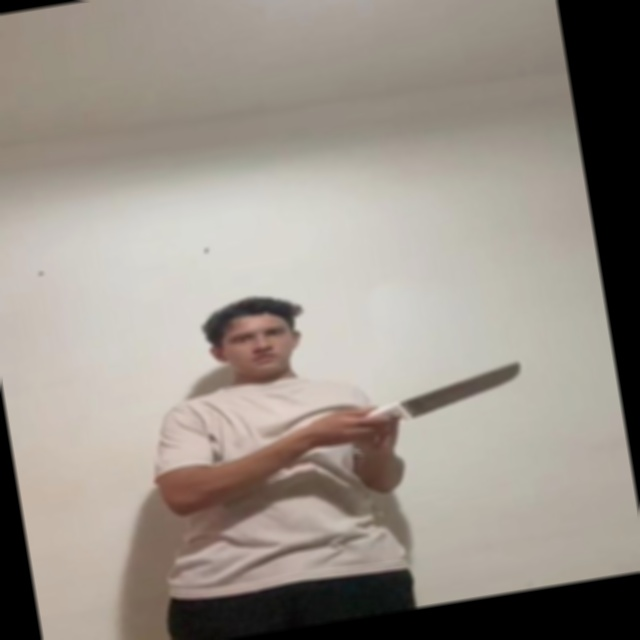Sharp-Object: (403, 360, 525, 418)
